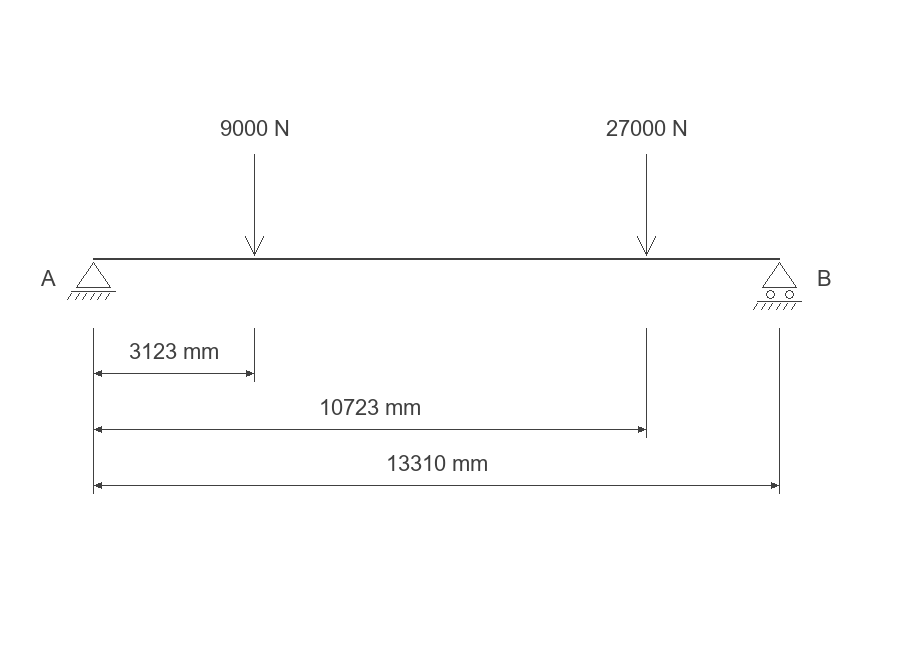pin_support: (67, 262, 116, 300)
point_load: (245, 154, 264, 256), (637, 154, 656, 256)
roller_support: (753, 262, 802, 310)
